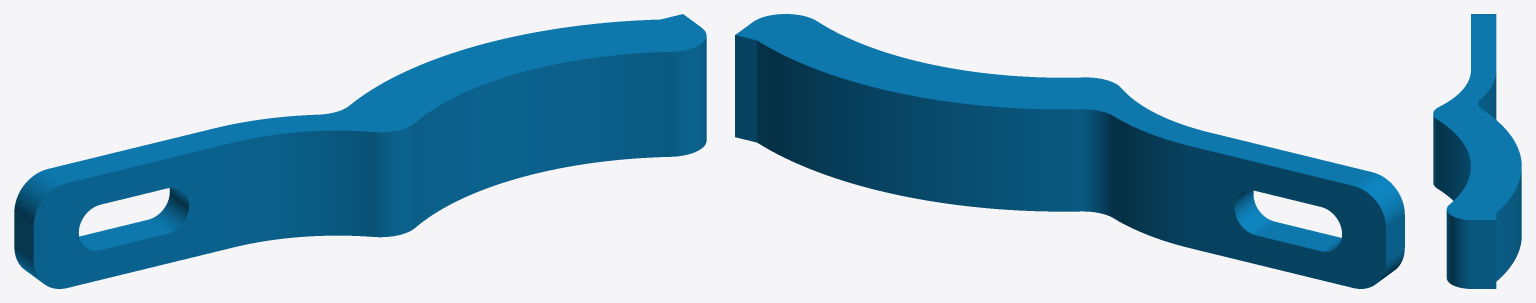
The model's file is XYZ Stage V5_X Stage Clamp V5.obj.
3 views of the same model, side by side, from view 1: azimuth 30°, elevation 25°; view 2: azimuth 150°, elevation 25°; view 3: azimuth 270°, elevation 25° (orthographic). The views are drawn at different scales.
Parts seen in each view (by area): view 1: Solid1:11; view 2: Solid1:11; view 3: Solid1:11.
Part boxes in pixels (left/top/right/bottom): Solid1:11: left=14, top=14, right=706, bottom=288; Solid1:11: left=735, top=14, right=1404, bottom=288; Solid1:11: left=1433, top=14, right=1521, bottom=288.
Bounding box in the file's own units: 50 × 7.5 × 8.73.
